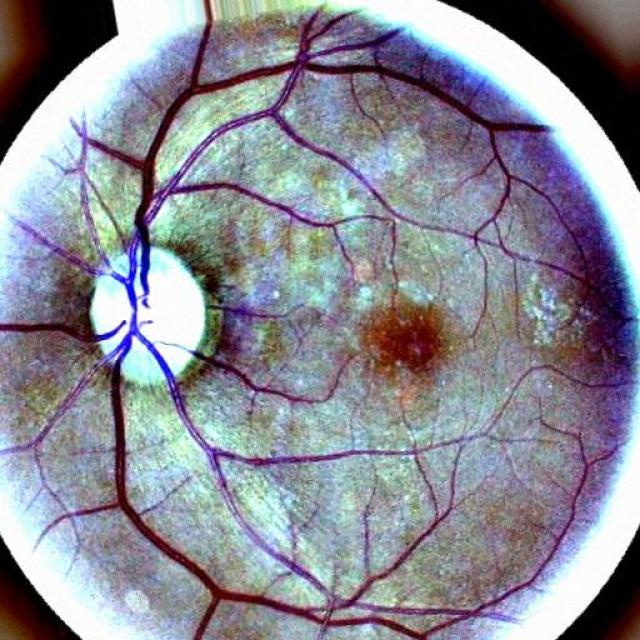Macula: (367, 295, 450, 383)
Nerves: (105, 330, 393, 636), (122, 60, 308, 328)
Optic Disk: (87, 248, 205, 391)
